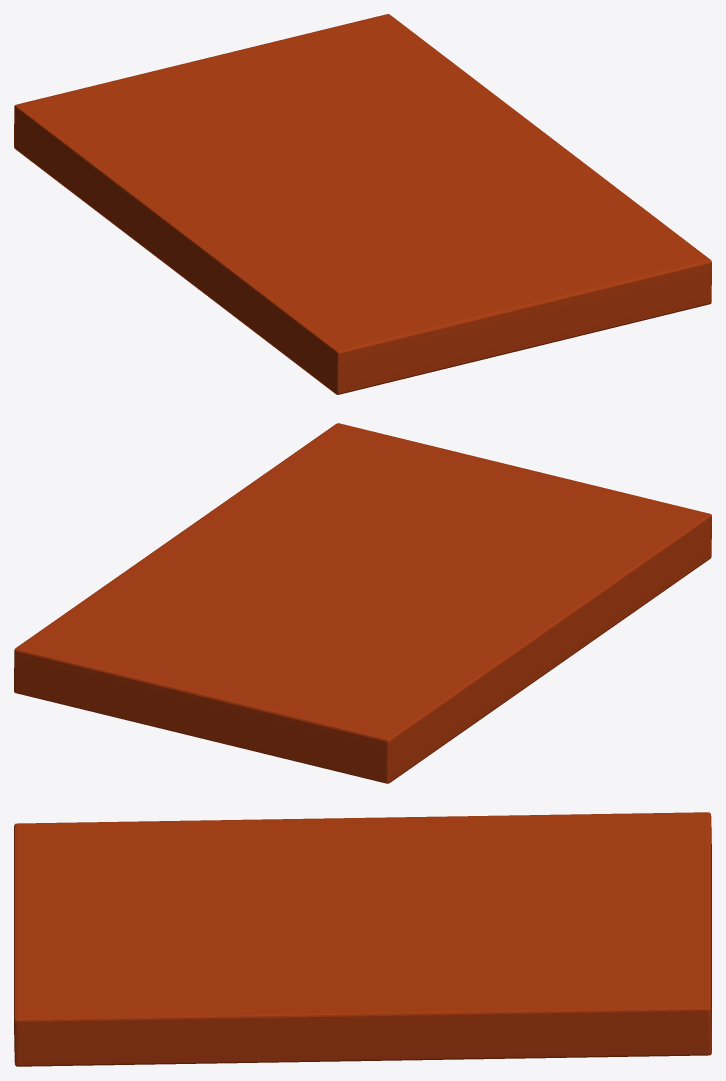
Rendered from FuseBoxOpen.fbx.
3 views of the same model, one above another, from view 1: azimuth 30°, elevation 25°; view 2: azimuth 150°, elevation 25°; view 3: azimuth 270°, elevation 25° (orthographic). The views are drawn at different scales.
Parts seen in each view (by area): view 1: FuseBoxOpen; view 2: FuseBoxOpen; view 3: FuseBoxOpen.
Boxes of the visible parts, x1,y1,x2,y2 form: FuseBoxOpen: (14,14,711,394); FuseBoxOpen: (14,423,711,783); FuseBoxOpen: (14,812,711,1066).
Bounding box in the file's own units: 49.8 × 6.89 × 74.52.
